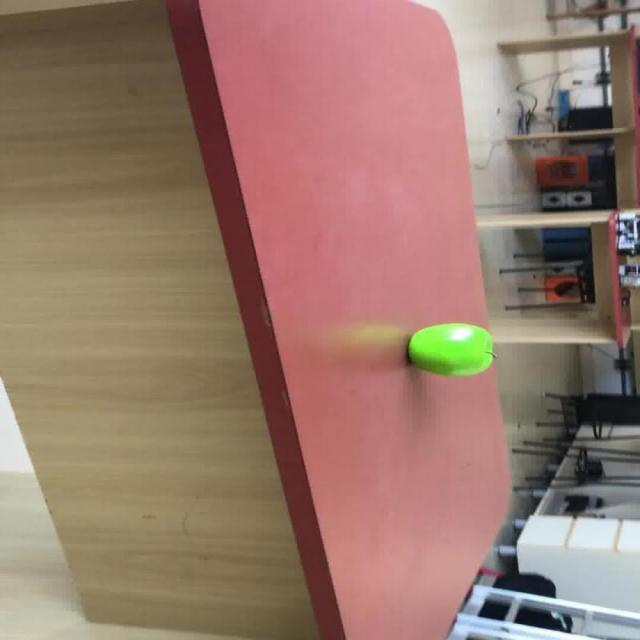Apple: (406, 322, 495, 377)
